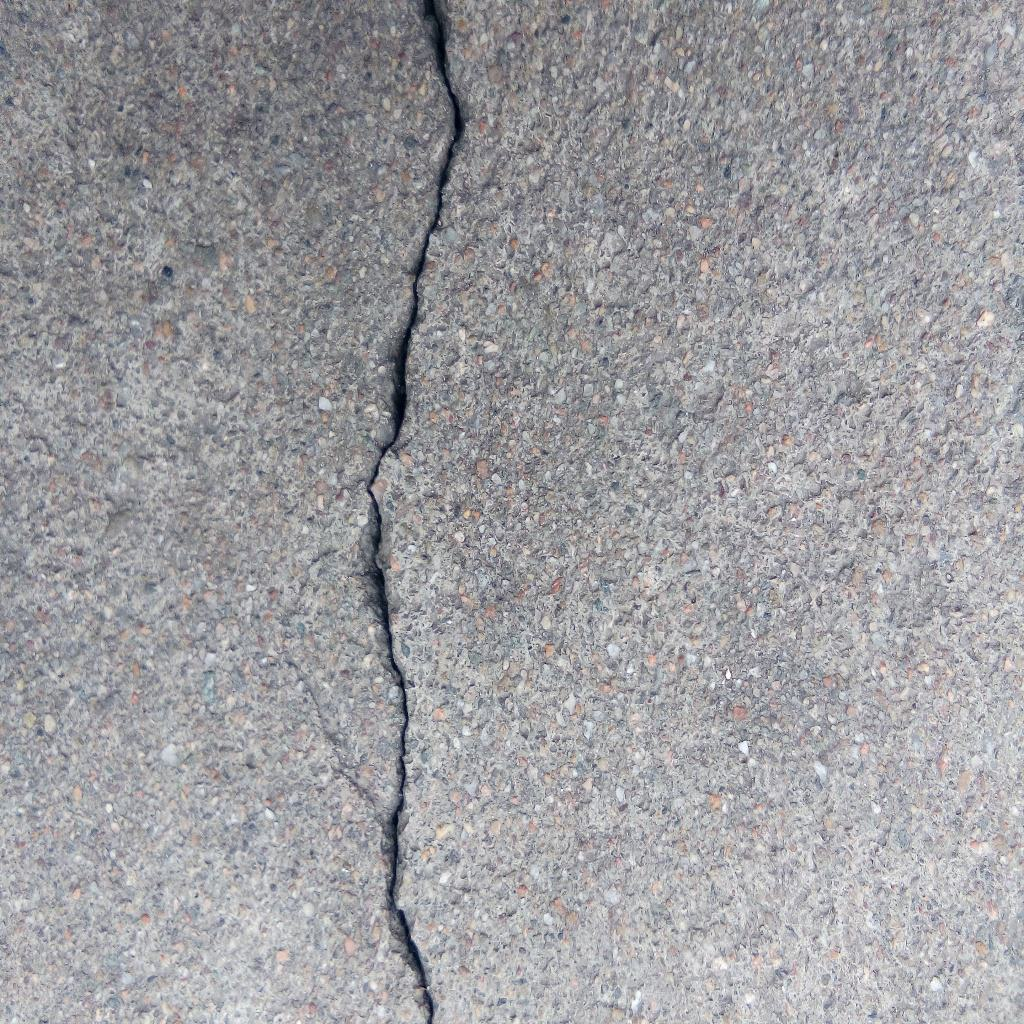Crack: (358, 1, 465, 1024)
